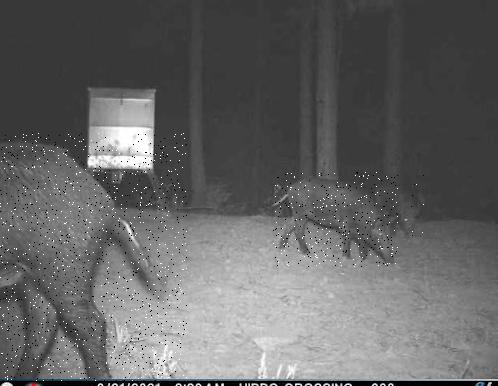Hog: (0, 133, 187, 381), (273, 172, 398, 267), (379, 173, 426, 237)
